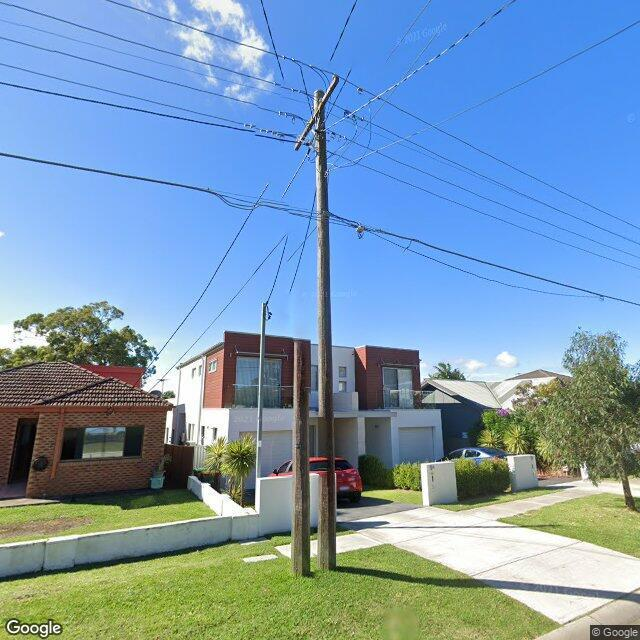crossarm: (293, 73, 340, 153)
steel-pole: (256, 302, 268, 479)
timber-pole: (290, 90, 338, 578)
